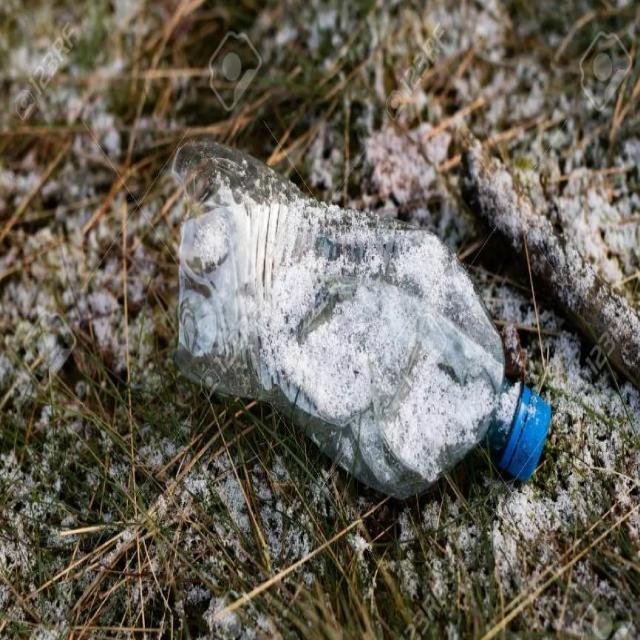bottle: (164, 108, 565, 532)
